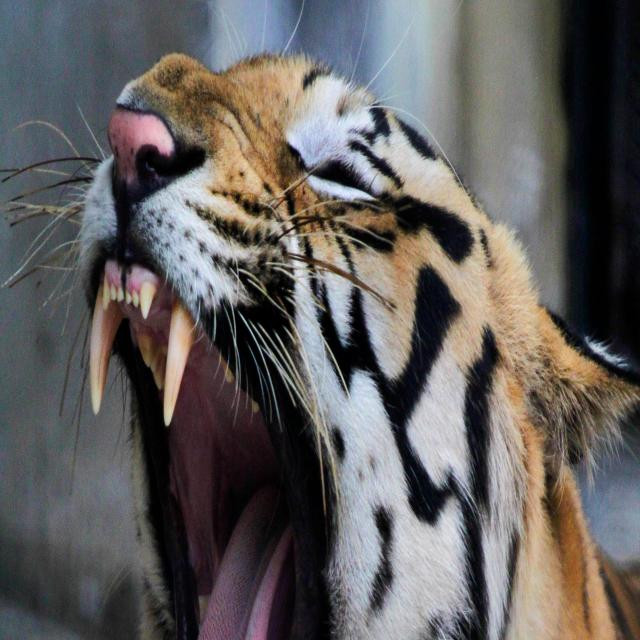Tiger: (33, 31, 640, 640)
